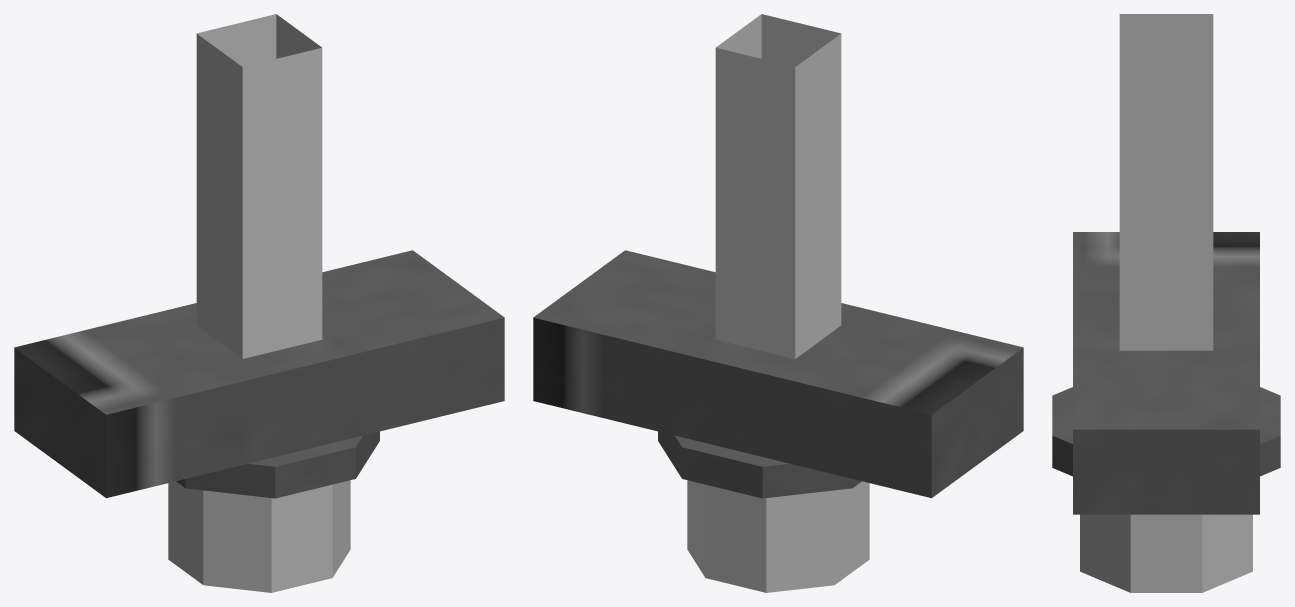
The model's file is ammo_assembler_press.obj.
3 renders of one model, left to right at view 1: azimuth 30°, elevation 25°; view 2: azimuth 150°, elevation 25°; view 3: azimuth 270°, elevation 25°, orthographic.
Parts seen in each view (by area): view 1: crosshead, ram, seating_die, die_lock_ring; view 2: crosshead, ram, seating_die, die_lock_ring; view 3: crosshead, ram, seating_die, die_lock_ring.
Part boxes in pixels (x1=…): crosshead: x1=14, y1=250, x2=504, y2=498; ram: x1=196, y1=14, x2=322, y2=358; seating_die: x1=168, y1=480, x2=350, y2=592; die_lock_ring: x1=176, y1=431, x2=379, y2=498; crosshead: x1=533, y1=250, x2=1023, y2=498; ram: x1=715, y1=14, x2=841, y2=358; seating_die: x1=687, y1=480, x2=869, y2=592; die_lock_ring: x1=658, y1=431, x2=861, y2=498; crosshead: x1=1073, y1=232, x2=1259, y2=514; ram: x1=1119, y1=14, x2=1213, y2=350; seating_die: x1=1080, y1=514, x2=1252, y2=592; die_lock_ring: x1=1052, y1=387, x2=1280, y2=476.
Bounding box in the file's own units: 0.625 × 0.7715 × 0.3049.
